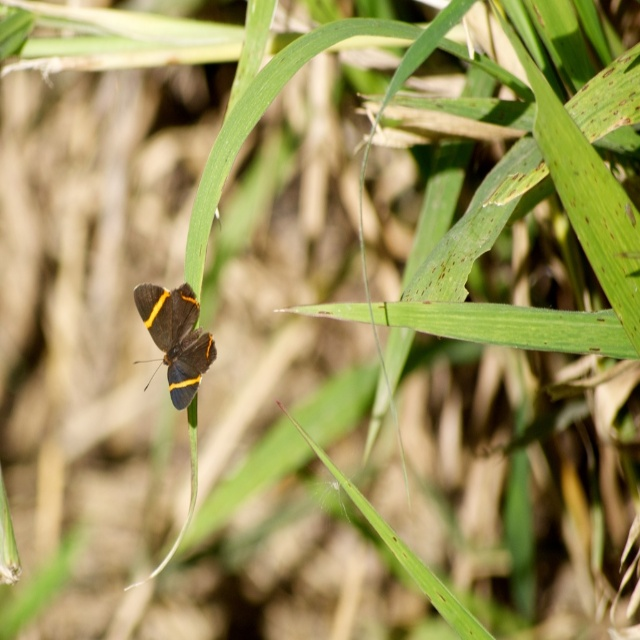Butterfly: (132, 282, 217, 406)
